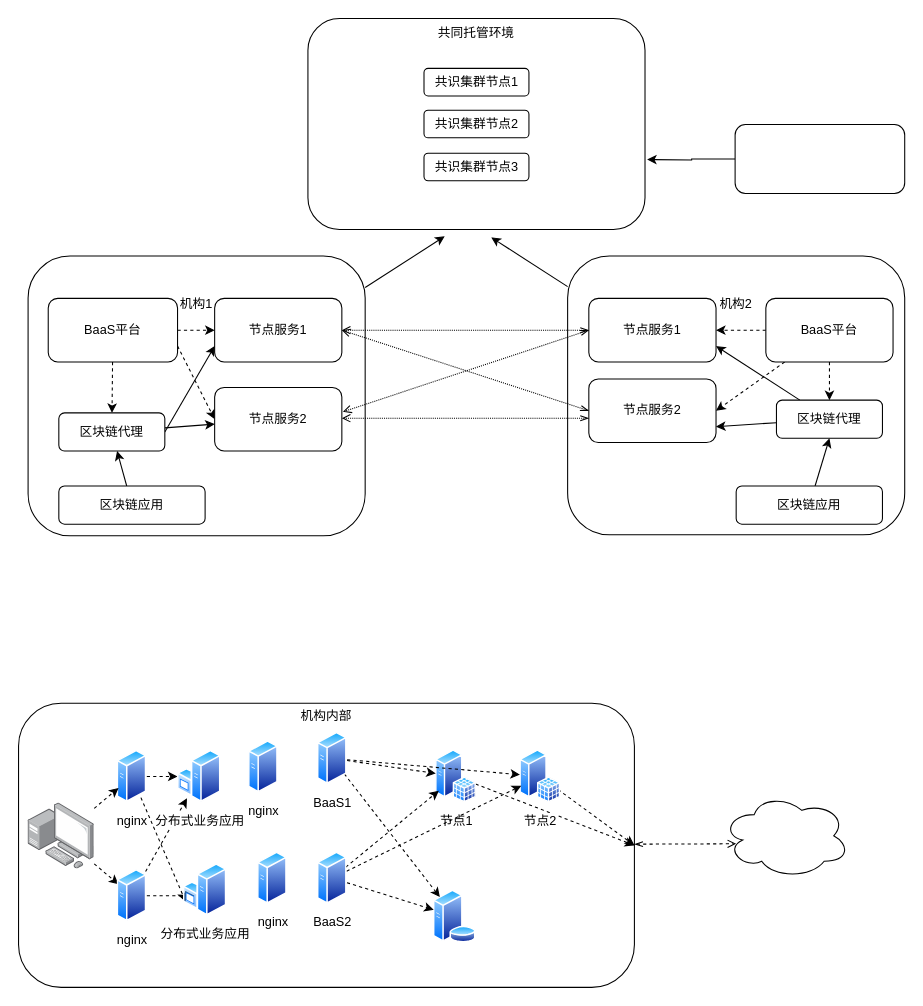
Image size: 923x1006. Some labels were removed from this diagram. The shapes that lost their labels are listed below. From the top down, each one's centre as x and y in pixels, then its label:
At point 819,158: "机构N .....".
At point 61,835: "终端".
At point 785,835: "教育联盟链".
At point 454,915: "BaaS数据库".
